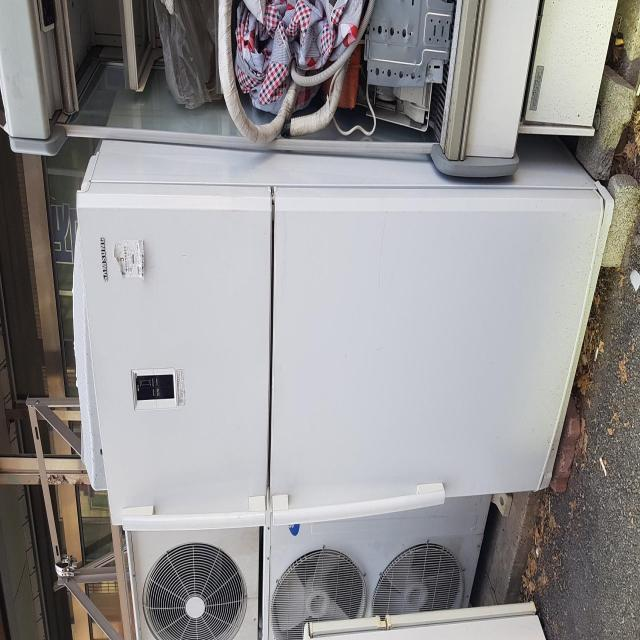refrigerator: (77, 138, 616, 534)
